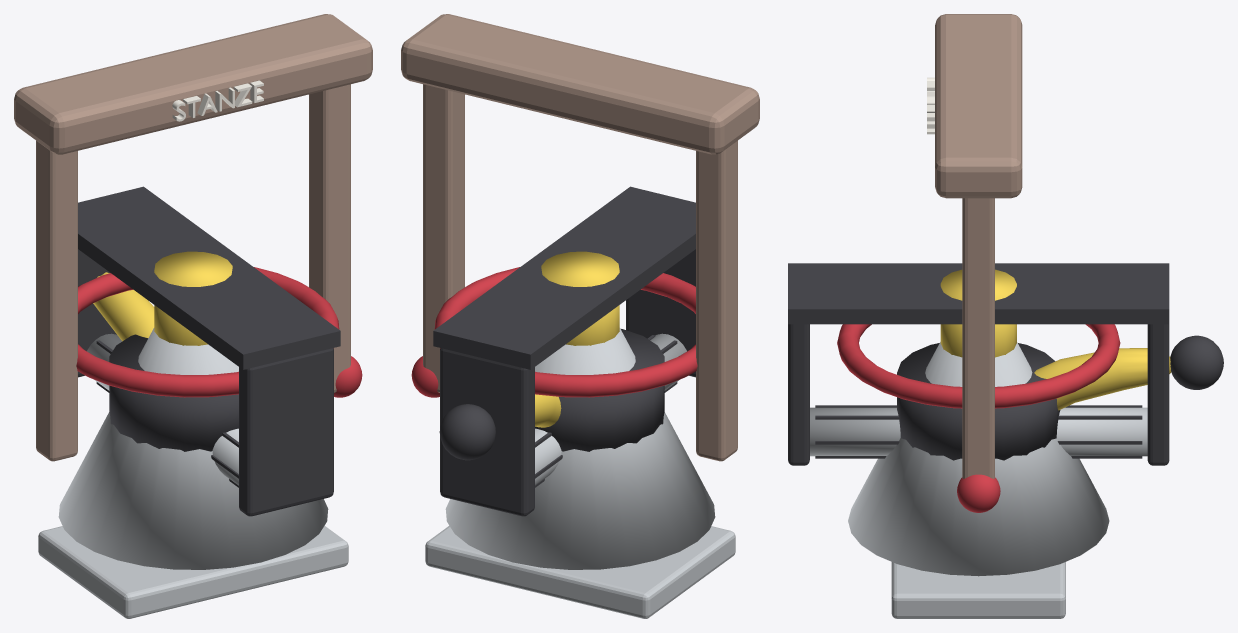
File: parts.glb
The picture shows the model from 3 angles, left to right: view 1: azimuth 30°, elevation 25°; view 2: azimuth 150°, elevation 25°; view 3: azimuth 270°, elevation 25°; orthographic projection. The views are drawn at different scales.
Visible parts, largest first — view 1: PressFrame, RollerFrame, HopperBody, PressStamp, ArmBase, ArmUpper, Roller, PressLever; view 2: PressFrame, RollerFrame, HopperBody, PressStamp, ArmBase, ArmUpper, Roller, PressLever; view 3: HopperBody, RollerFrame, PressFrame, ArmBase, Roller, PressStamp, ArmUpper, PressLever.
Boxes of the visible parts, x1,y1,x2,y2 form: PressFrame: [14, 14, 372, 461]; RollerFrame: [78, 186, 340, 516]; HopperBody: [58, 267, 339, 569]; PressStamp: [38, 525, 348, 618]; ArmBase: [109, 251, 238, 451]; ArmUpper: [93, 272, 154, 341]; Roller: [87, 333, 238, 487]; PressLever: [334, 356, 362, 397]; PressFrame: [401, 14, 759, 461]; RollerFrame: [433, 186, 695, 516]; HopperBody: [434, 267, 715, 569]; PressStamp: [425, 525, 735, 618]; ArmBase: [535, 251, 664, 451]; ArmUpper: [439, 394, 561, 460]; Roller: [535, 333, 686, 487]; PressLever: [411, 356, 439, 397]; HopperBody: [837, 324, 1120, 576]; RollerFrame: [788, 263, 1169, 465]; PressFrame: [927, 14, 1022, 478]; ArmBase: [897, 269, 1060, 460]; Roller: [810, 405, 1147, 458]; PressStamp: [891, 562, 1065, 618]; ArmUpper: [1034, 335, 1223, 410]; PressLever: [957, 474, 1000, 512].
Size of the model in its own units: 0.67 by 0.994 by 0.8.
